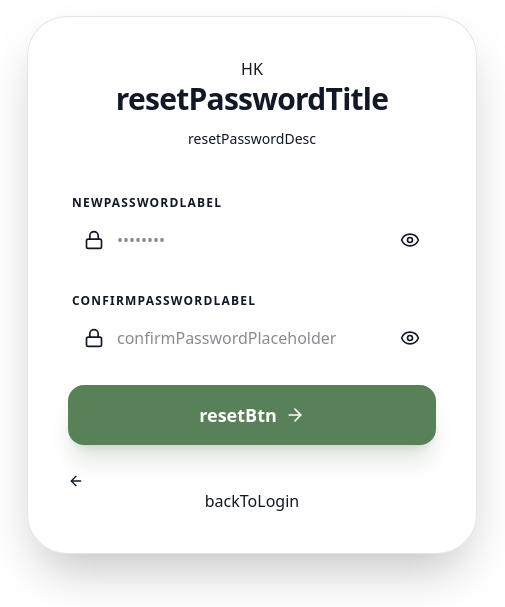
Test: ResetPasswordPage › submits reset password request successfully
Step 1. Type "password123" into the password field labelled "newPasswordLabel" → (252, 240), box [68,213,436,267]
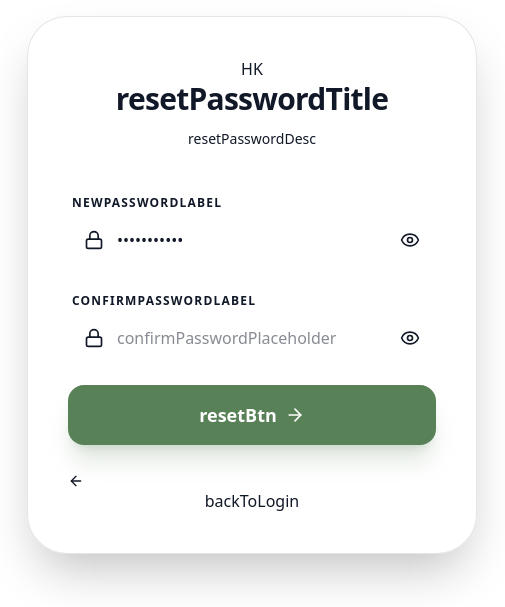
Step 2. Type "password123" into the password field labelled "confirmPasswordLabel" → (252, 338), box [68,311,436,365]
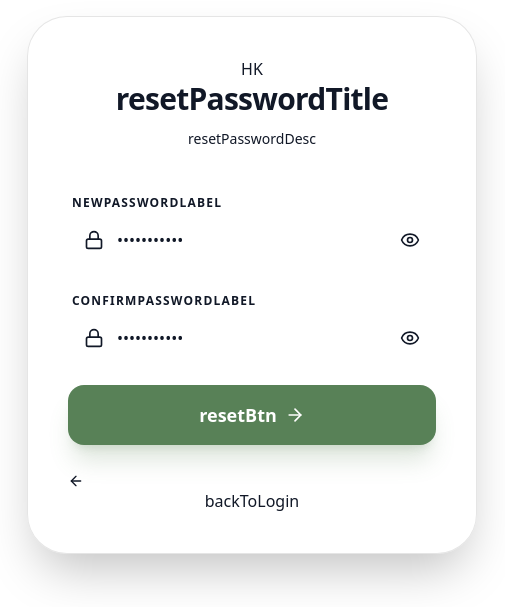
Step 3. Click the button "resetBtn" → (252, 415), box [68,385,436,445]
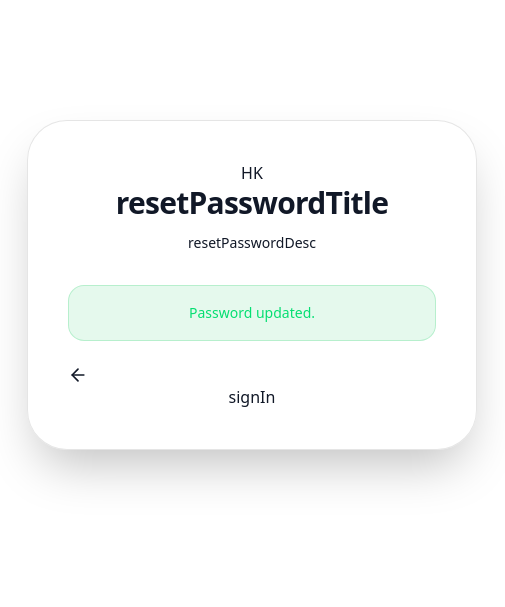
Result: the text "Password updated." is shown at [68,285,436,341]
